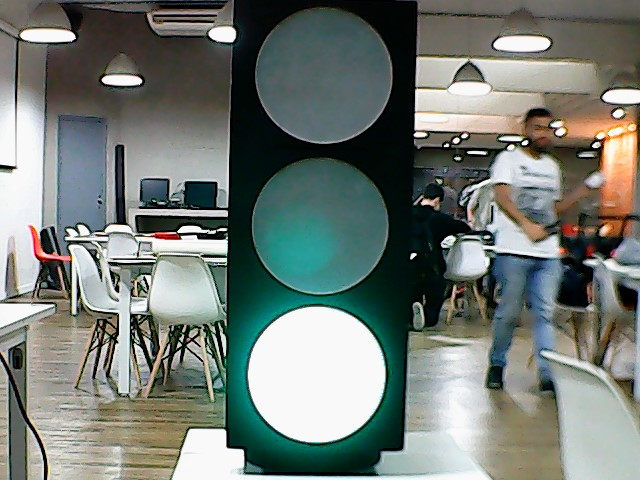verde: (226, 1, 422, 457)
